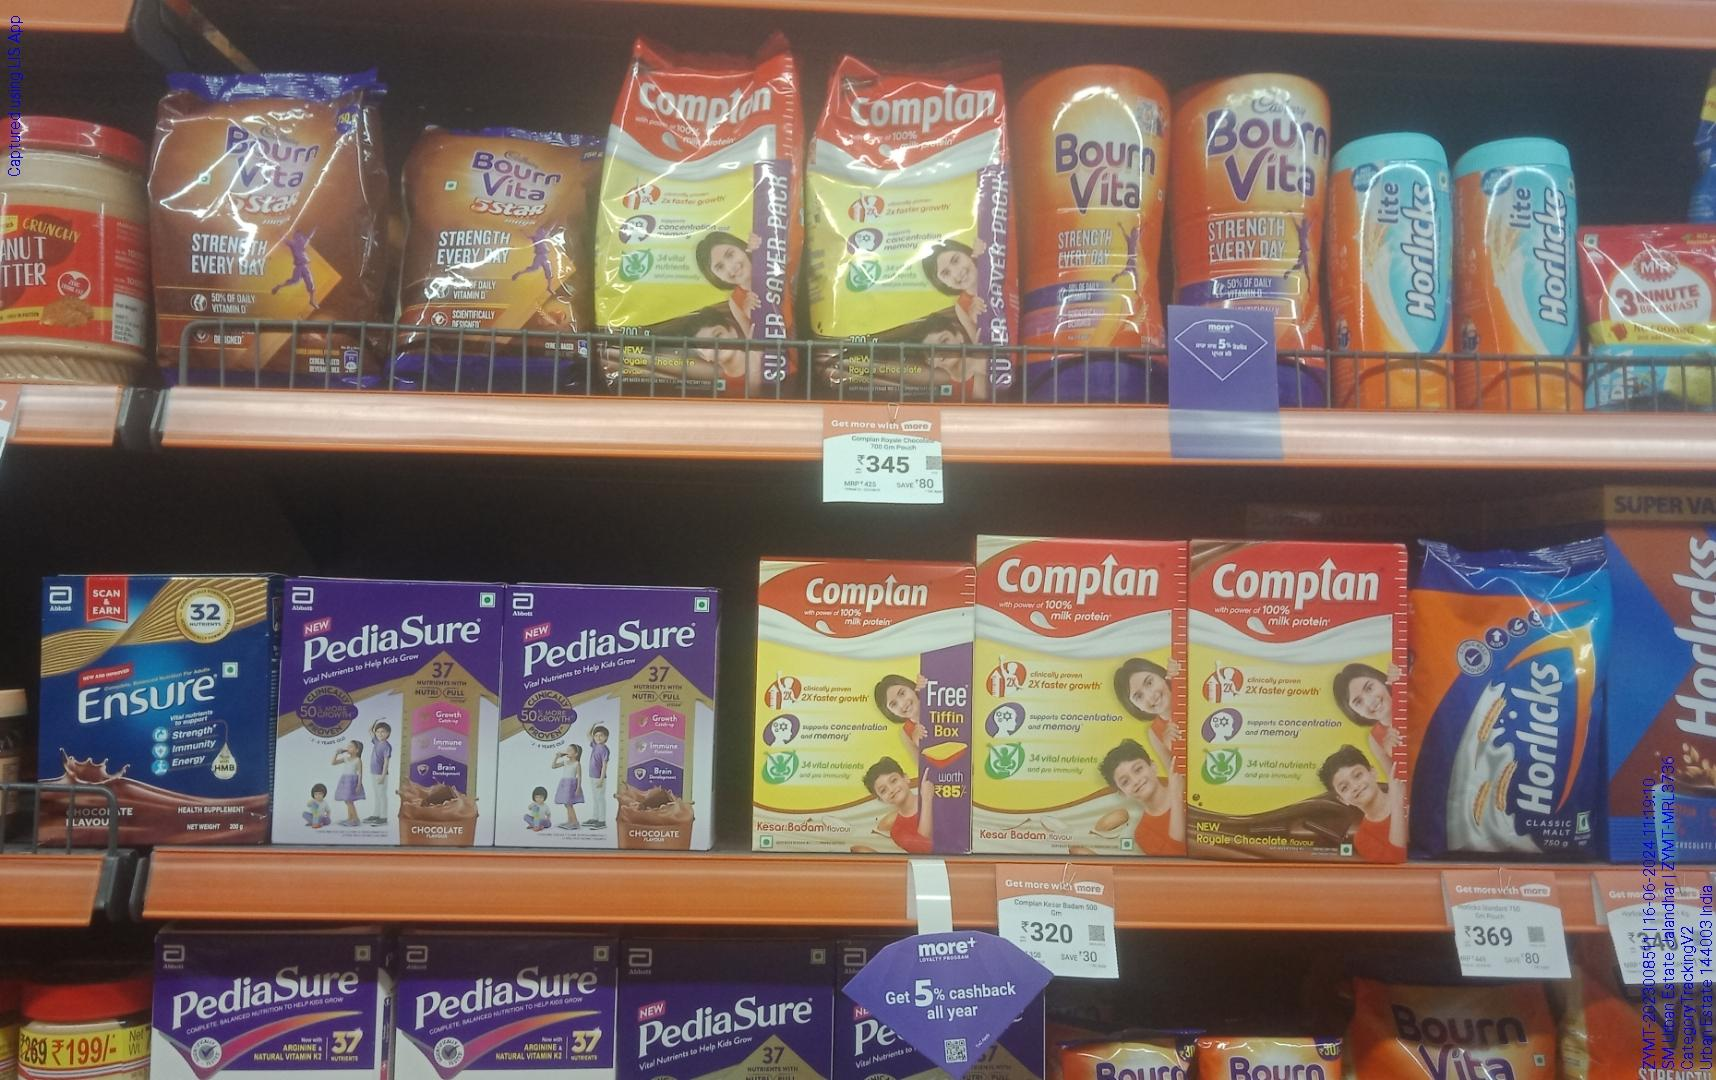BOURN_VITA_1_KG_JAR: (1024, 31, 1157, 407), (1171, 52, 1324, 302)
BOURN_VITA_FIVE_STAR_MAGIC_750_G_POUCH: (153, 77, 376, 399), (398, 119, 590, 391)
COMPLAN_RC_POUCH_700_GMS_12: (596, 29, 798, 403), (810, 41, 1015, 397)
HORLICKS_LITE_REGULAR_MALT_500_GM_JAR: (1465, 132, 1583, 414), (1335, 138, 1457, 412)
PEDIASURE_CHOCOLATE_500_G_PACK: (277, 580, 493, 844), (505, 587, 706, 855)
